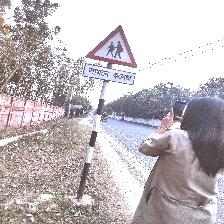College-in-front: (80, 19, 150, 101)
